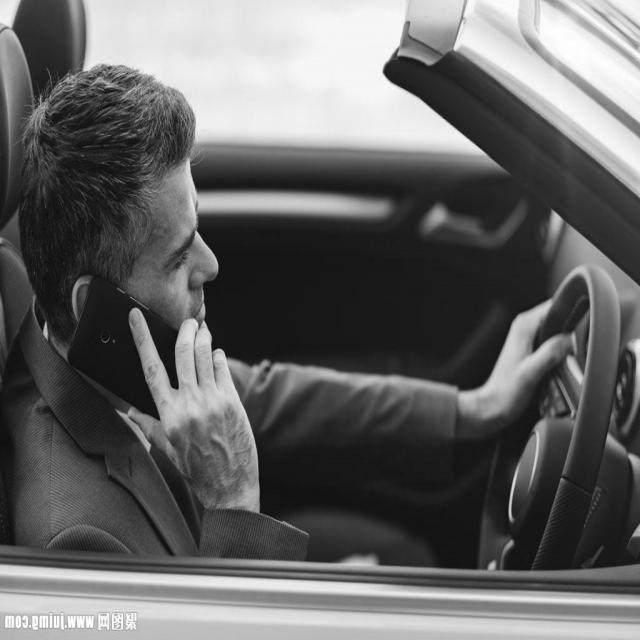phone: (62, 267, 224, 458)
